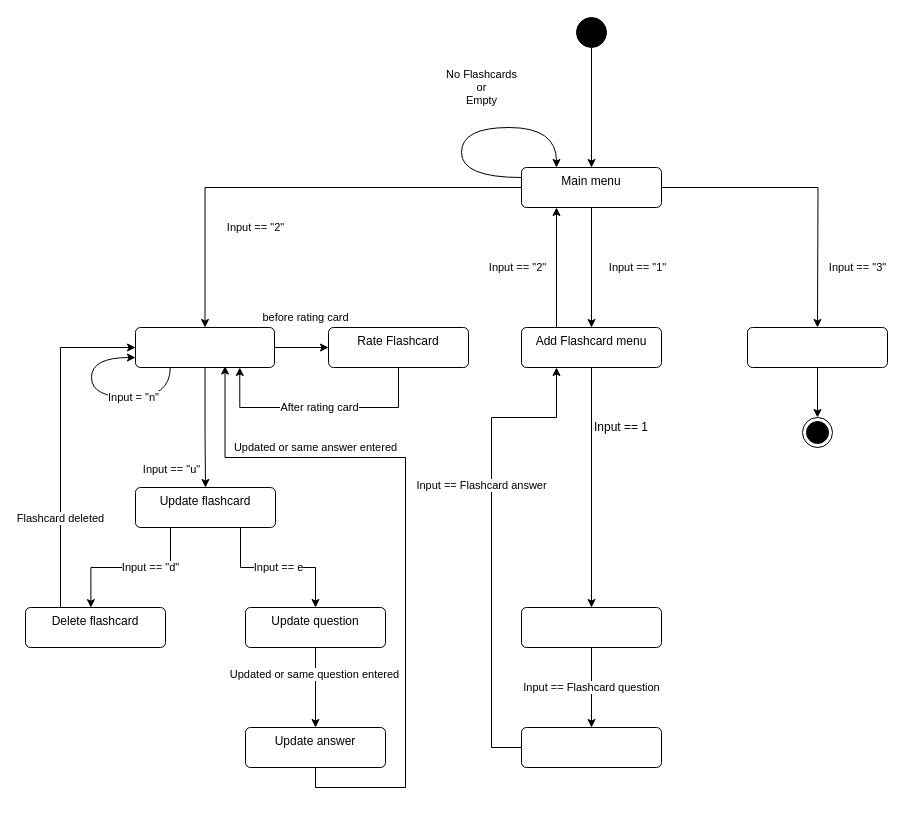
The diagram is 905 pixels wide and 813 high, and some of its shapes have lost their labels. The shapes that lost their labels are listed below. From the top down, each one's box as (x1, y1, x2, y2) in pixels, then its label:
(134, 326, 274, 368): Practise Flashcards
(746, 326, 888, 368): Exit
(520, 606, 662, 648): Enter question
(520, 726, 662, 768): Enter answer
